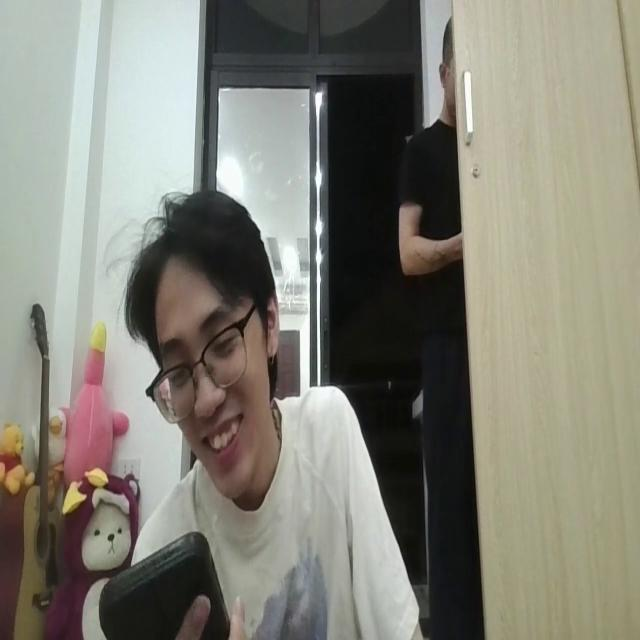extra_person: (404, 2, 488, 640)
phone: (99, 531, 236, 640)
student: (91, 179, 423, 640)
